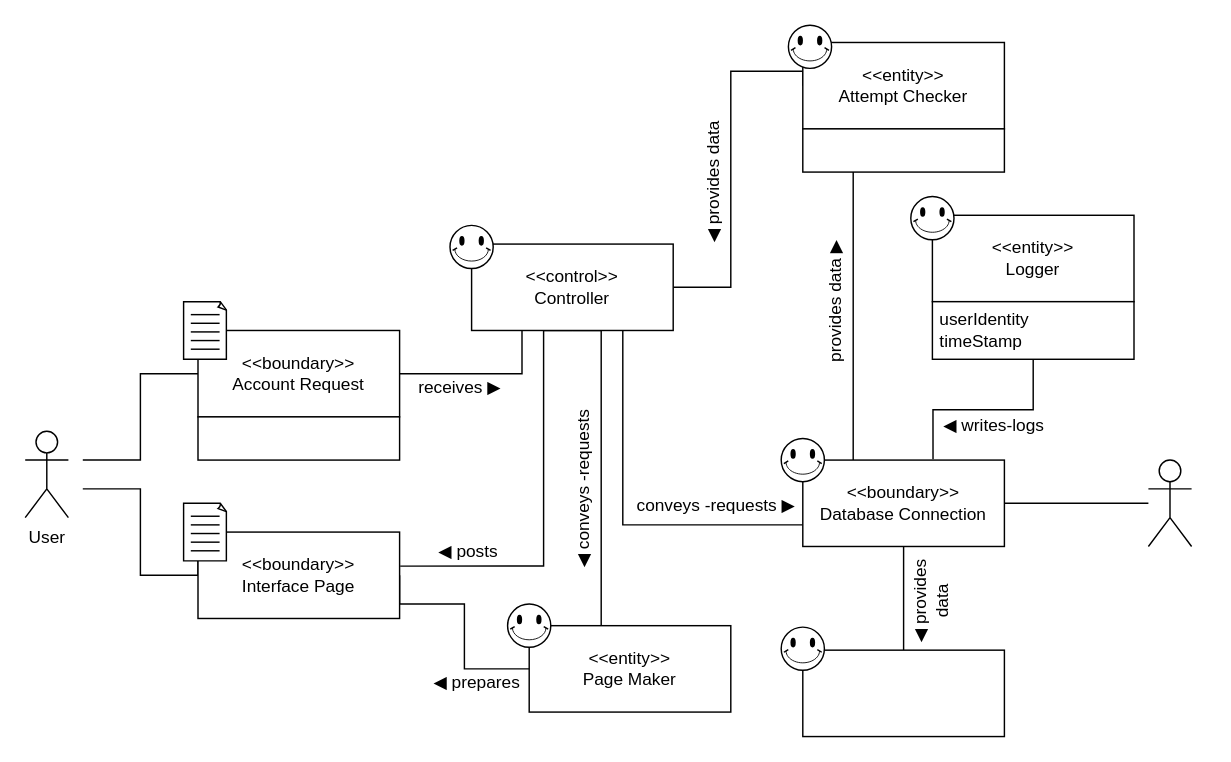
Some shapes in this 1231 by 762 pixel diagram are drawn without their labels. Here are the shapes that lost their labels. From the top down, the centre of each, then its label:
(x=902, y=149): attempt information
(x=298, y=437): userIdentity
(x=1169, y=502): Database
(x=902, y=693): <<entity>> Key Checker
